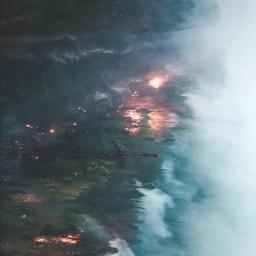Heavy smoke: (95, 0, 256, 256)
Medium fire: (15, 56, 194, 256)
